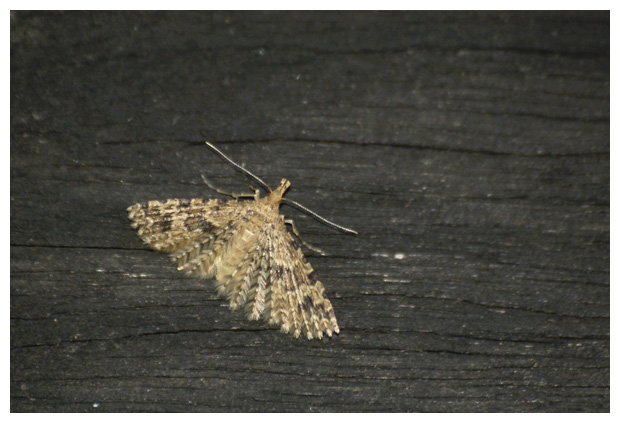Alucitidae: (122, 137, 373, 342)
moth: (120, 135, 371, 340)
